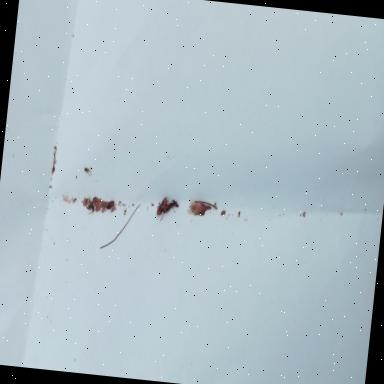pbw: (188, 200, 204, 216)
